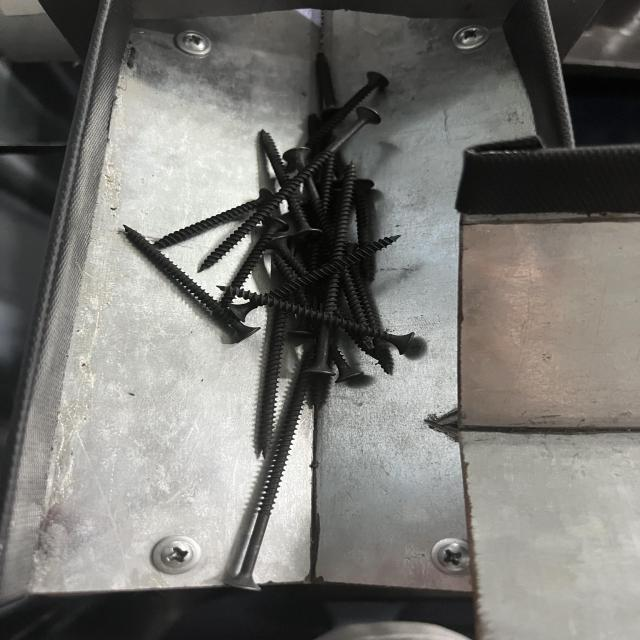screw: (211, 336, 334, 592), (198, 105, 380, 272), (120, 225, 264, 344)
